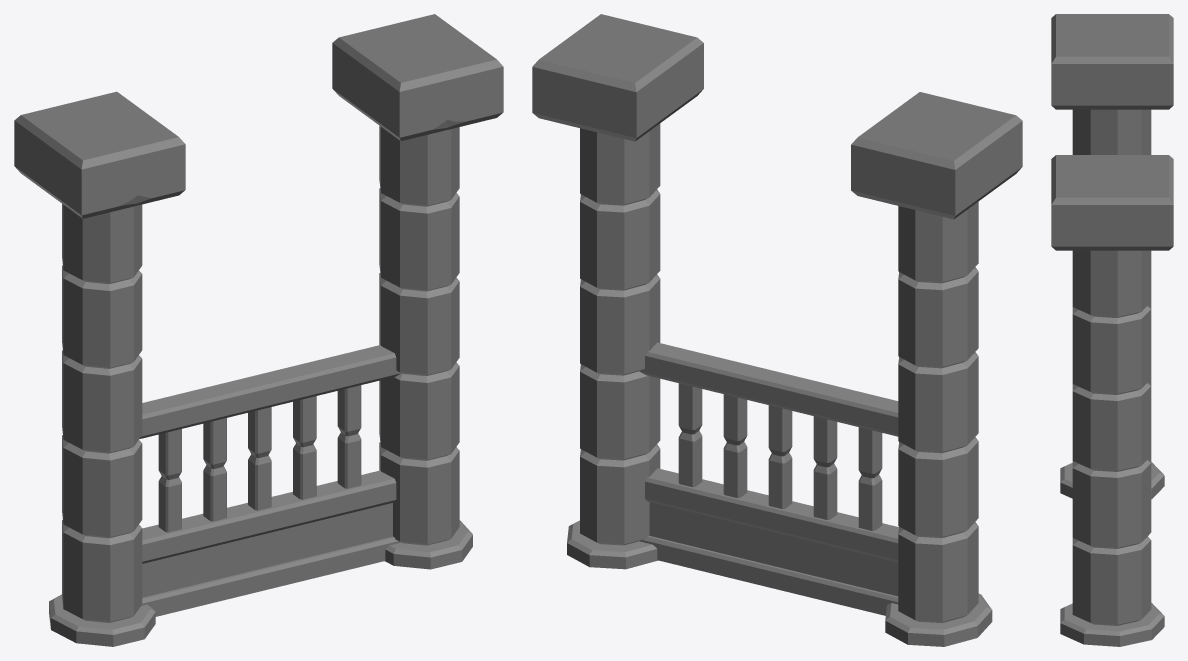
Rendered from rock_10.fbx.
3 renders of one model, left to right at view 1: azimuth 30°, elevation 25°; view 2: azimuth 150°, elevation 25°; view 3: azimuth 270°, elevation 25°, orthographic. The views are drawn at different scales.
Visible parts, largest first — view 1: Cube.002; view 2: Cube.002; view 3: Cube.002.
Part boxes in pixels (box(x1,y1,x2,y2)): Cube.002: box(14, 14, 503, 646); Cube.002: box(532, 14, 1022, 646); Cube.002: box(1051, 14, 1173, 646).
Size of the model in its own units: 121 by 439 by 493.
1 material, 1 textured.
